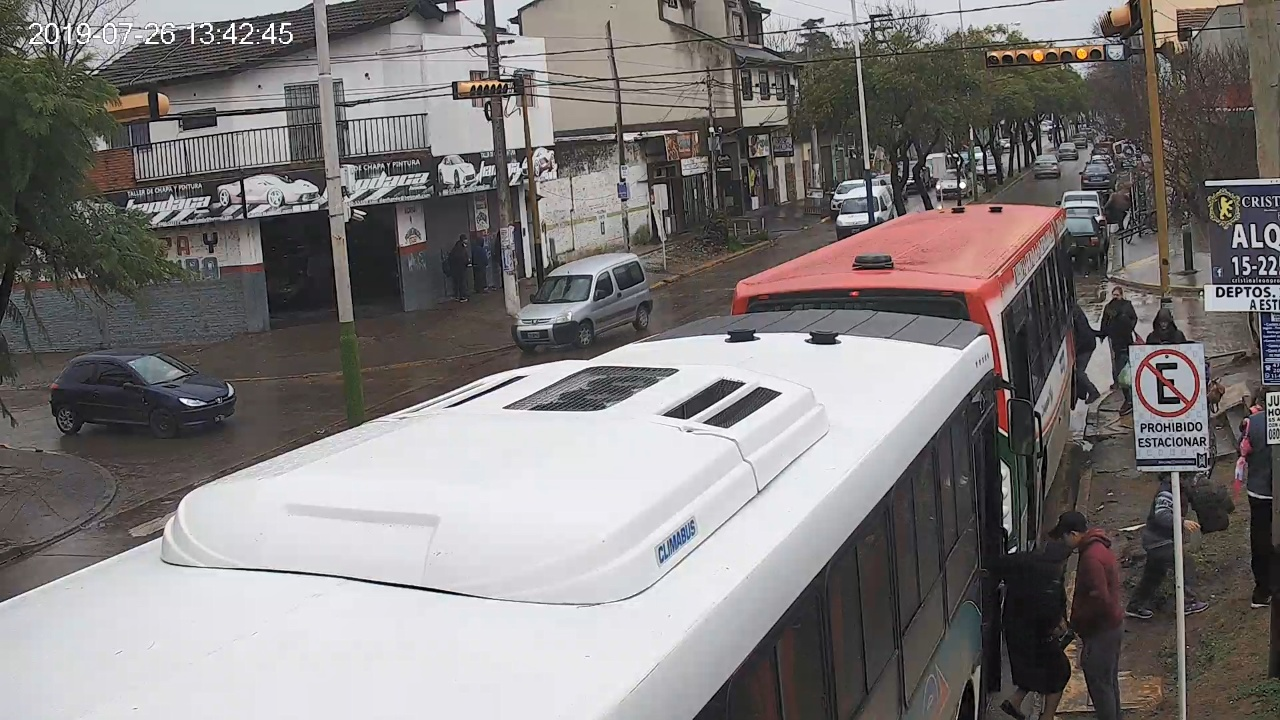bus: (3, 312, 1035, 720)
front car: (51, 349, 238, 438), (512, 253, 653, 347)
traffic light: (1015, 47, 1103, 63)
